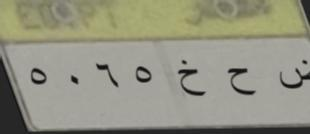0: (63, 70, 82, 92)
5: (130, 62, 156, 90), (25, 64, 48, 91)
6: (92, 59, 120, 93)
7aa: (224, 63, 258, 100)
khaa: (174, 56, 206, 102)
